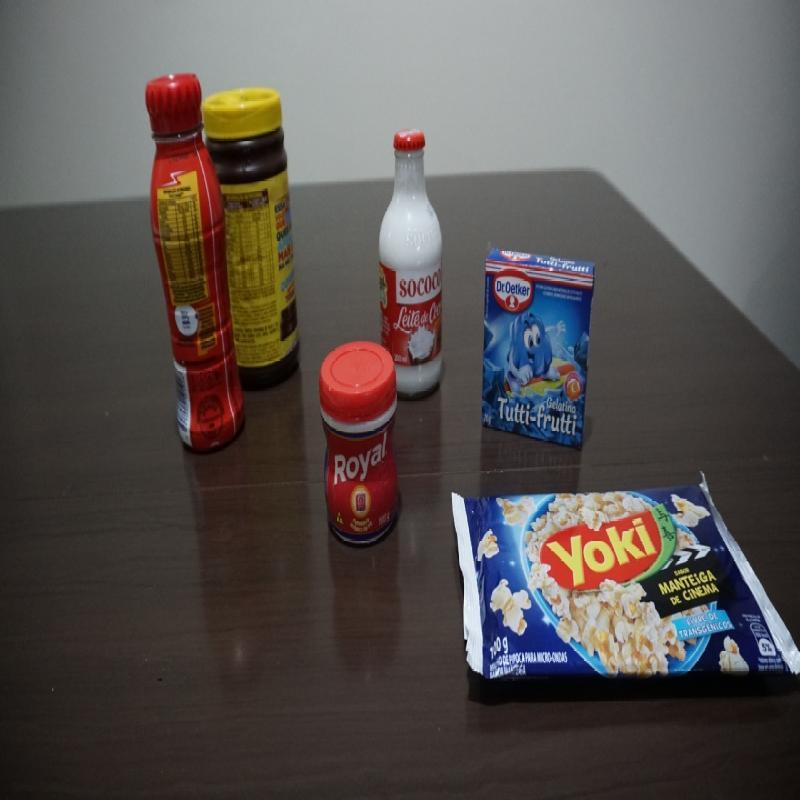Chocolate Milk: (142, 69, 248, 451)
Chocolate Powder: (201, 86, 301, 392)
Coconut Milk: (377, 125, 445, 404)
Gelatine: (480, 244, 599, 452)
Popcorn: (447, 469, 796, 684)
Yeast: (317, 339, 403, 549)
